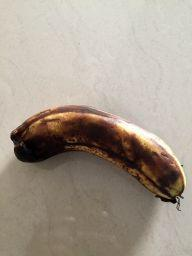banana: (8, 103, 188, 214)
